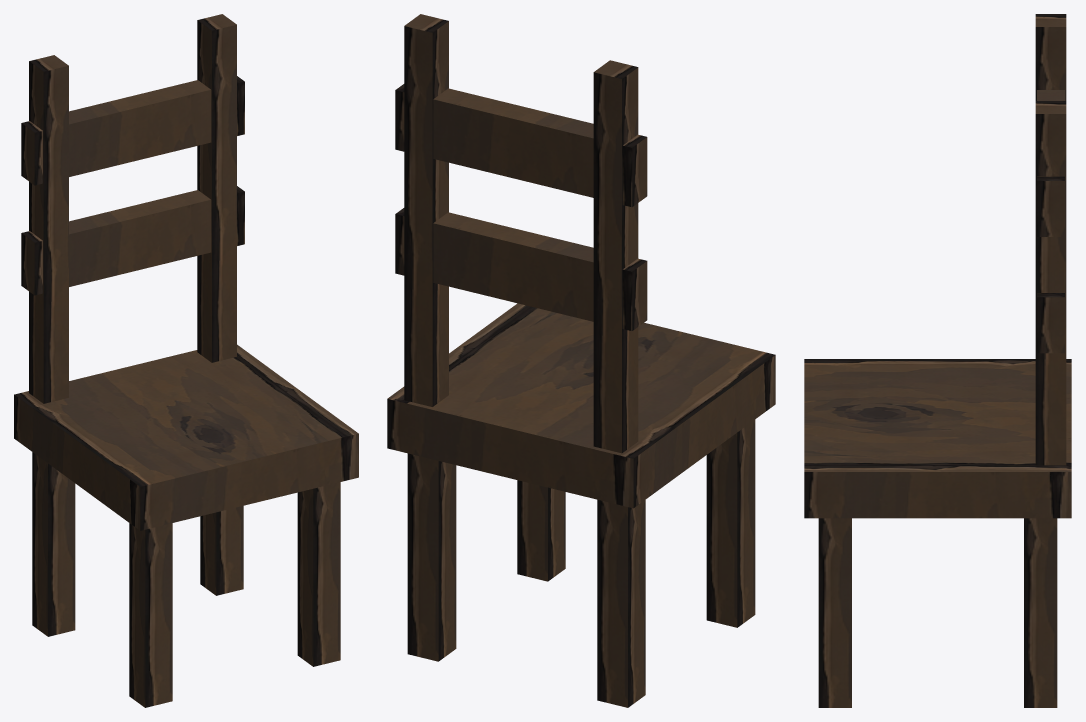
The model's file is chair_dark.glb.
3 views of the same model, side by side, from view 1: azimuth 30°, elevation 25°; view 2: azimuth 150°, elevation 25°; view 3: azimuth 270°, elevation 25° (orthographic). The views are drawn at different scales.
Visible parts, largest first — view 1: chair_dark; view 2: chair_dark; view 3: chair_dark.
Part boxes in pixels (x1,y1,x2,y2): chair_dark: (14, 14, 358, 707); chair_dark: (387, 14, 775, 707); chair_dark: (804, 14, 1071, 707).
Size of the model in its own units: 0.52 by 1.27 by 0.52.
Materials: 1 (1 with a texture image).
